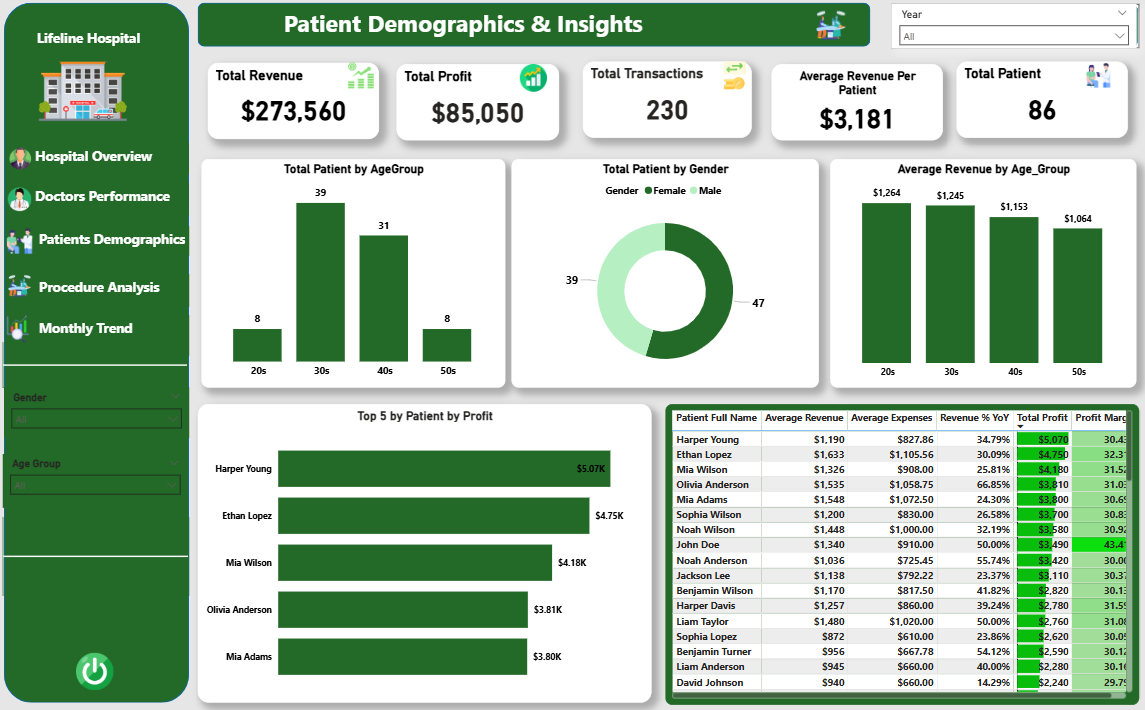

What the dashboard file says about the page in this screenshot:
{"tool":"powerbi","page":{"name":"Patients","canvas":[1600,1000],"ordinal":2},"visuals":[{"type":"card","title":"Total Revenue","fields":{"Values":["Measure_Table.Total Revenue"]},"box":[295.4,95,236.7,105.4],"z":0},{"type":"card","title":"Total Profit","fields":{"Values":["Measure_Table.Total Profit"]},"box":[556.3,96.8,224.6,105.4],"z":1000},{"type":"shape","box":[13.8,12.1,255.7,967.5],"z":2000},{"type":"shape","box":[281.6,12.1,929.5,60.5],"z":3000},{"type":"image","box":[708.4,96.8,74.3,38],"z":4000},{"type":"image","box":[482,93.3,50.1,38],"z":5000},{"type":"image","box":[20.7,205.6,31.1,43.2],"z":6000},{"type":"image","box":[48.4,69.1,148.6,127.9],"z":7000},{"type":"textbox","box":[22.5,43.2,216,50.1],"z":8000},{"type":"image","box":[81.2,908.8,115.8,55.3],"z":9000},{"type":"image","box":[19,260.9,32.8,44.9],"z":10000},{"type":"image","box":[13.8,321.4,43.2,39.7],"z":11000},{"type":"image","box":[13.8,387,43.2,32.8],"z":12000},{"type":"image","box":[13.8,444,38,38],"z":13000},{"type":"shape","box":[1240.5,13.8,342.1,60.5],"z":14000},{"type":"textbox","box":[51.8,205.6,217.7,43.2],"z":16000},{"type":"textbox","box":[51.8,260.9,217.7,44.9],"z":17000},{"type":"textbox","box":[57,321.4,212.5,39.7],"z":18000},{"type":"textbox","box":[57,387,212.5,44.9],"z":19000},{"type":"textbox","box":[57,444,212.5,55.3],"z":20000},{"type":"slicer","fields":{"Values":["Dim_Patients_Table.Age_Group"]},"box":[12.1,635.8,255.7,74.3],"z":21000},{"type":"shape","box":[12.1,482,255.7,62.2],"z":22000},{"type":"shape","box":[12.1,723.9,257.4,107.1],"z":23000},{"type":"card","title":"Average Revenue Per Patient","fields":{"Values":["Measure_Table.Average Revenue Per Patient"]},"box":[1074.6,96.8,236.7,105.4],"z":24000},{"type":"clusteredBarChart","title":"Top 5 by Patient by Profit","fields":{"Category":["Dim_Patients_Table.Patient Full Name"],"Y":["Measure_Table.Total Profit"]},"box":[281.6,566.7,627.2,412.9],"z":25000},{"type":"tableEx","fields":{"Values":["Dim_Patients_Table.Full Name","Measure_Table.Average Revenue","Measure_Table.Average Expenses","Measure_Table.Revenue % YoY","Measure_Table.Total Profit","Measure_Table.Profit Margin"]},"box":[927.8,566.7,654.8,416.4],"z":26000},{"type":"clusteredColumnChart","title":"Total Patient by  AgeGroup","fields":{"Category":["Dim_Patients_Table.Age_Group"],"Y":["Measure_Table.Total Patient"]},"box":[286.8,228.1,419.8,316.2],"z":27000},{"type":"donutChart","title":"Total Patient by Gender","fields":{"Category":["Dim_Patients_Table.Patients_Gender"],"Y":["Measure_Table.Total Patient"]},"box":[715.3,228.1,425,316.2],"z":28000},{"type":"clusteredColumnChart","fields":{"Category":["Dim_Patients_Table.Age_Group"],"Y":["Measure_Table.Average Revenue"]},"box":[1155.8,228.1,423.3,316.2],"z":29000},{"type":"card","title":"Total Patient","fields":{"Values":["Measure_Table.Total Patient"]},"box":[1330.3,93.3,236.7,105.4],"z":30000},{"type":"image","box":[1501.4,93.3,50.1,38],"z":31000},{"type":"card","title":"Total Transactions","fields":{"Values":["Measure_Table.Total Transactions"]},"box":[813.8,93.3,233.2,105.4],"z":32000},{"type":"image","box":[1000.4,93.3,46.6,38],"z":33000},{"type":"image","box":[1135.1,20.7,43.2,44.9],"z":34000},{"type":"slicer","fields":{"Values":["Dim_Patients_Table.Patients_Gender"]},"box":[13.8,544.2,255.7,69.1],"z":35000},{"type":"slicer","fields":{"Values":["DateTable.Year"]},"box":[1240.5,13.8,338.6,60.5],"z":36000},{"type":"textbox","box":[395.6,13.8,628.9,55.3],"z":36001}]}

Visuals, with their boxes in screenshot pixels (x1, y1, x2, y2), scaled from the page's 1600x1000 canvas onto the 1145x710 screenshot:
"Total Revenue" card: detection(211, 67, 381, 142)
"Total Profit" card: detection(398, 69, 559, 144)
shape: detection(10, 9, 193, 696)
shape: detection(202, 9, 867, 52)
image: detection(507, 69, 560, 96)
image: detection(345, 66, 381, 93)
image: detection(15, 146, 37, 177)
image: detection(35, 49, 141, 140)
textbox: detection(16, 31, 171, 66)
image: detection(58, 645, 141, 685)
image: detection(14, 185, 37, 217)
image: detection(10, 228, 41, 256)
image: detection(10, 275, 41, 298)
image: detection(10, 315, 37, 342)
shape: detection(888, 10, 1133, 53)
textbox: detection(37, 146, 193, 177)
textbox: detection(37, 185, 193, 217)
textbox: detection(41, 228, 193, 256)
textbox: detection(41, 275, 193, 307)
textbox: detection(41, 315, 193, 355)
slicer - Dim_Patients_Table.Age_Group: detection(9, 451, 192, 504)
shape: detection(9, 342, 192, 386)
shape: detection(9, 514, 193, 590)
"Average Revenue Per Patient" card: detection(769, 69, 938, 144)
"Top 5 by Patient by Profit" clusteredBarChart: detection(202, 402, 650, 696)
tableEx - Dim_Patients_Table.Full Name x Measure_Table.Average Revenue: detection(664, 402, 1133, 698)
"Total Patient by  AgeGroup" clusteredColumnChart: detection(205, 162, 506, 386)
"Total Patient by Gender" donutChart: detection(512, 162, 816, 386)
clusteredColumnChart - Dim_Patients_Table.Age_Group x Measure_Table.Average Revenue: detection(827, 162, 1130, 386)
"Total Patient" card: detection(952, 66, 1121, 141)
image: detection(1074, 66, 1110, 93)
"Total Transactions" card: detection(582, 66, 749, 141)
image: detection(716, 66, 749, 93)
image: detection(812, 15, 843, 47)
slicer - Dim_Patients_Table.Patients_Gender: detection(10, 386, 193, 435)
slicer - DateTable.Year: detection(888, 10, 1130, 53)
textbox: detection(283, 10, 733, 49)
